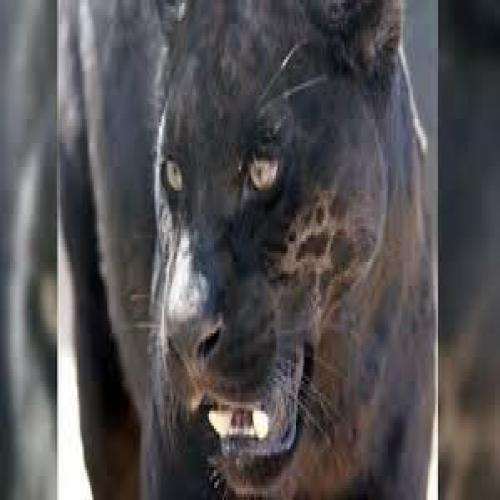panther-endangered: (61, 3, 435, 498)
